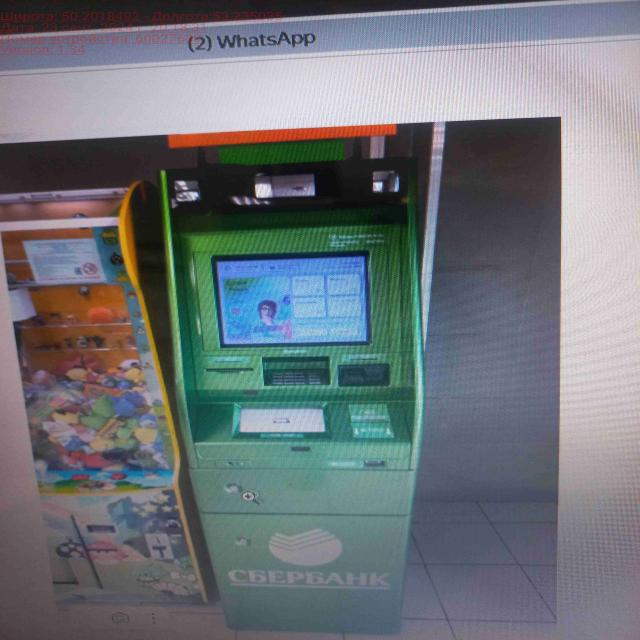bank: (153, 137, 425, 640)
